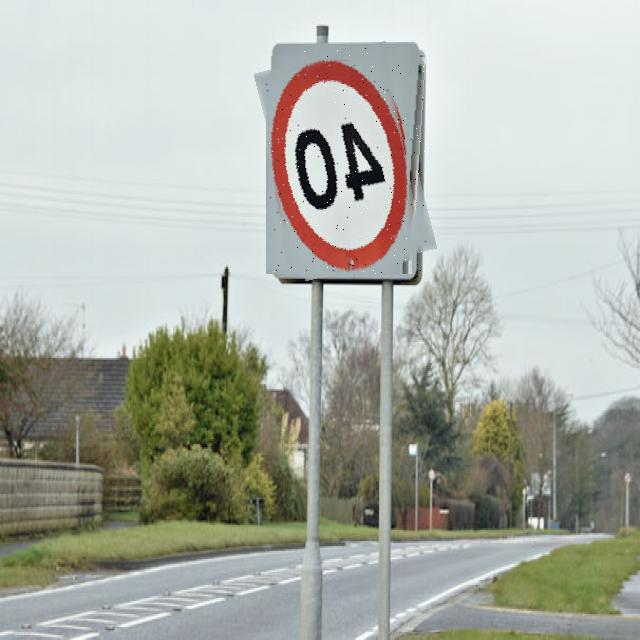speed limit 40: (266, 48, 426, 274)
